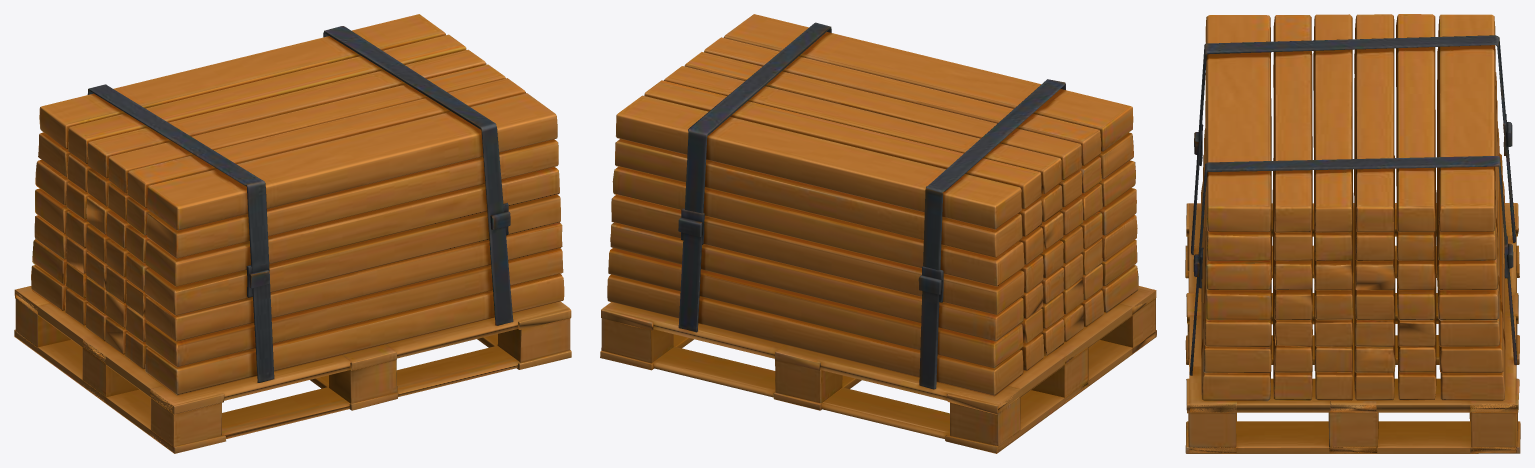
Rendered from timber-plank-pallet.glb.
The picture shows the model from 3 angles, left to right: view 1: azimuth 30°, elevation 25°; view 2: azimuth 150°, elevation 25°; view 3: azimuth 270°, elevation 25°; orthographic projection. The views are drawn at different scales.
Visible parts, largest first — view 1: geometry_0; view 2: geometry_0; view 3: geometry_0.
Boxes of the visible parts, x1,y1,x2,y2 form: geometry_0: (14, 14, 571, 453); geometry_0: (600, 14, 1156, 453); geometry_0: (1185, 14, 1520, 453).
Size of the model in its own units: 2.2 by 1.28 by 1.55.
1 material, 1 textured.
